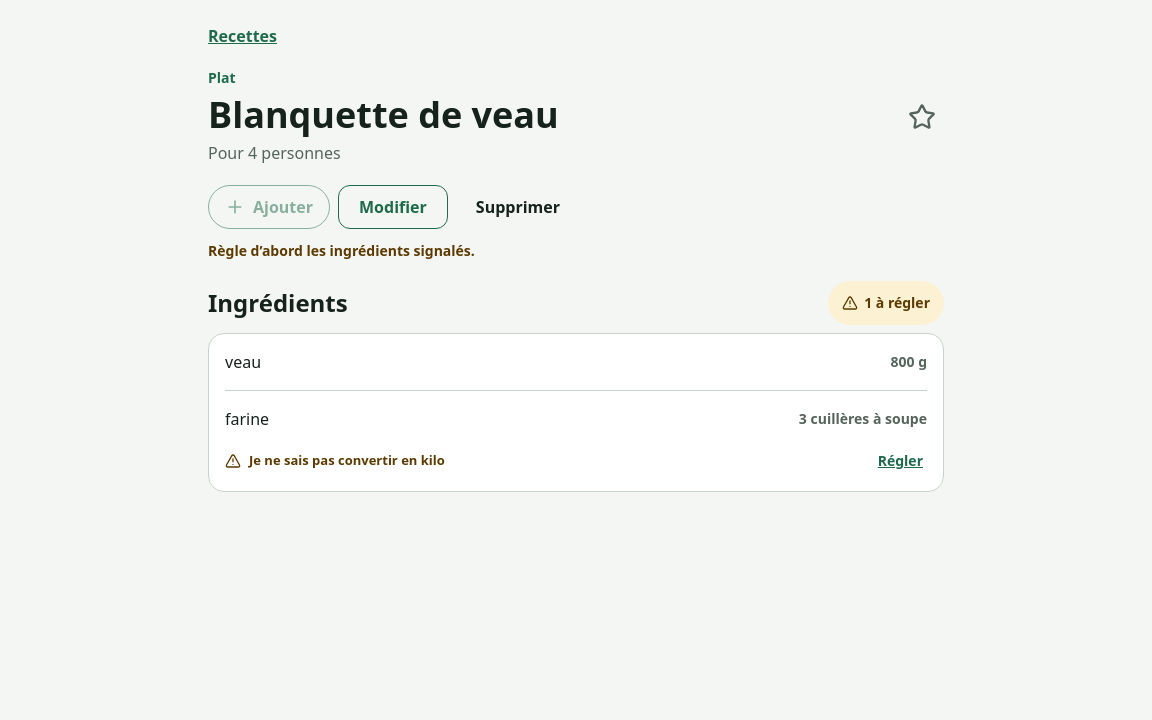
Test: RecipeDetailView : ingrédients à régler › dit en une phrase pourquoi le back refuse, sans fermer la feuille
expect the heading "Blanquette de veau" is shown: met, box [208,92,559,137]
Click the button "Régler": [900, 461] box [866,439,935,483]
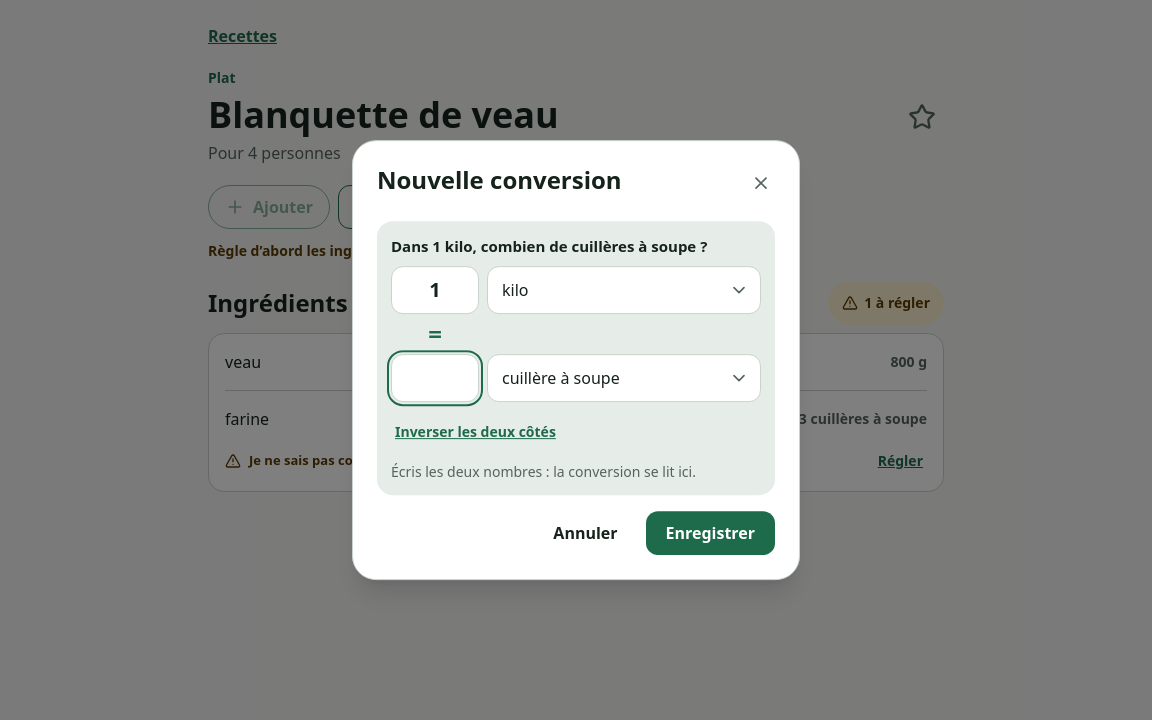
expect the dialog is shown: met, box [352,140,800,580]
In the field named "Quantité d": [435, 378] box [391,354,479,402], type "10"
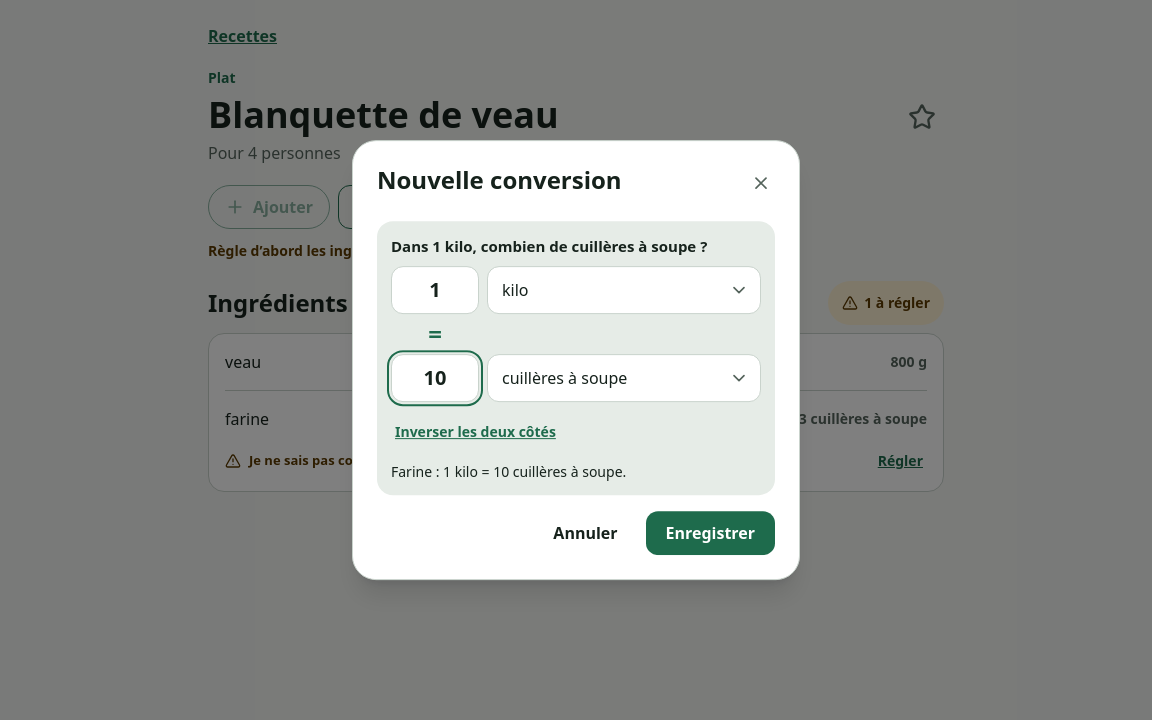
Submit the form, box [377,221,775,555]
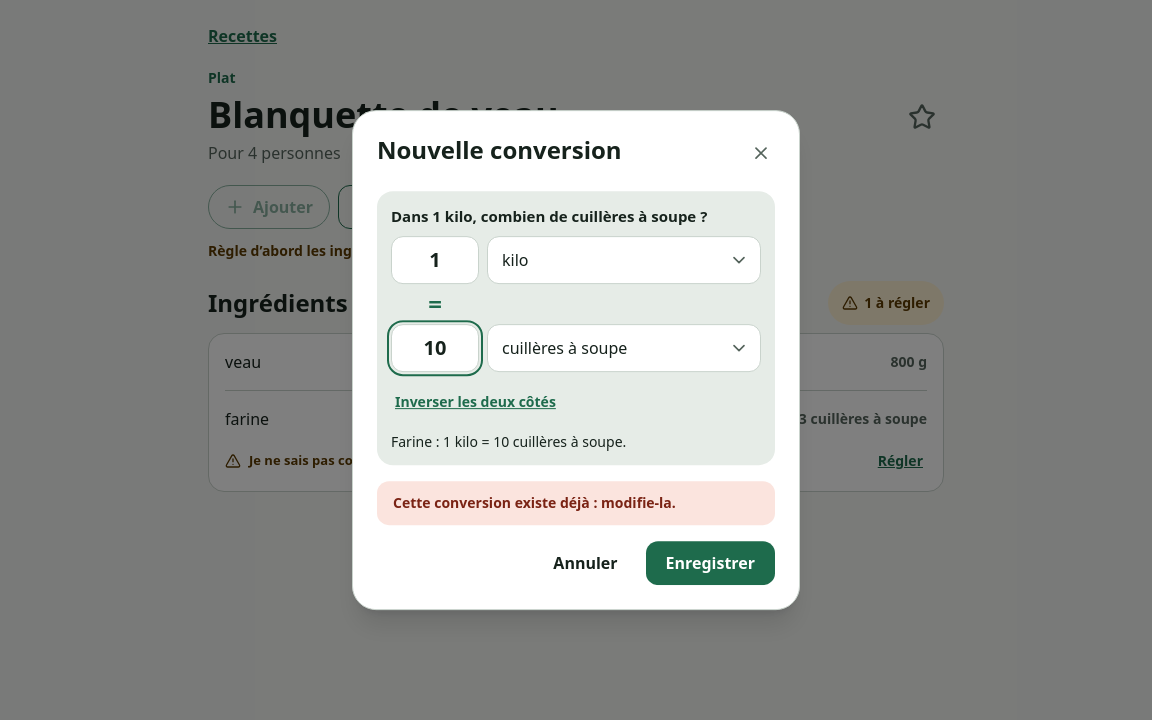
expect the dialog is shown: met, box [352,110,800,610]
expect the message "Cette conversion existe déjà : modifie-la." is shown: met, box [377,481,775,525]
